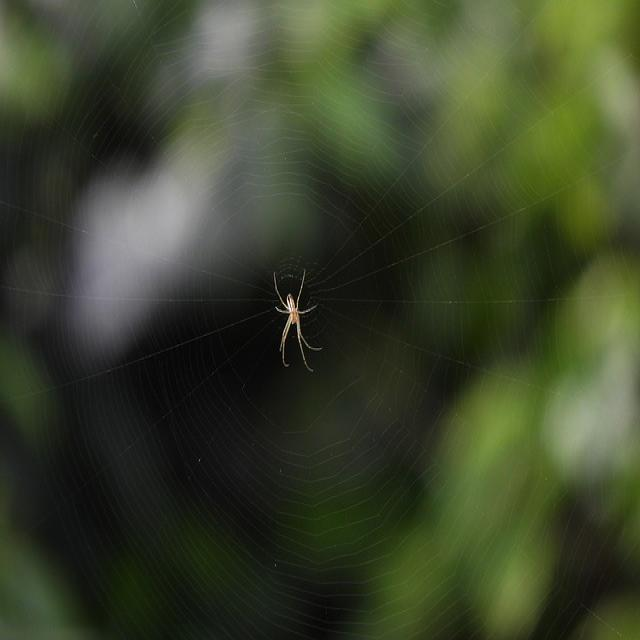spyder: (274, 272, 321, 371)
